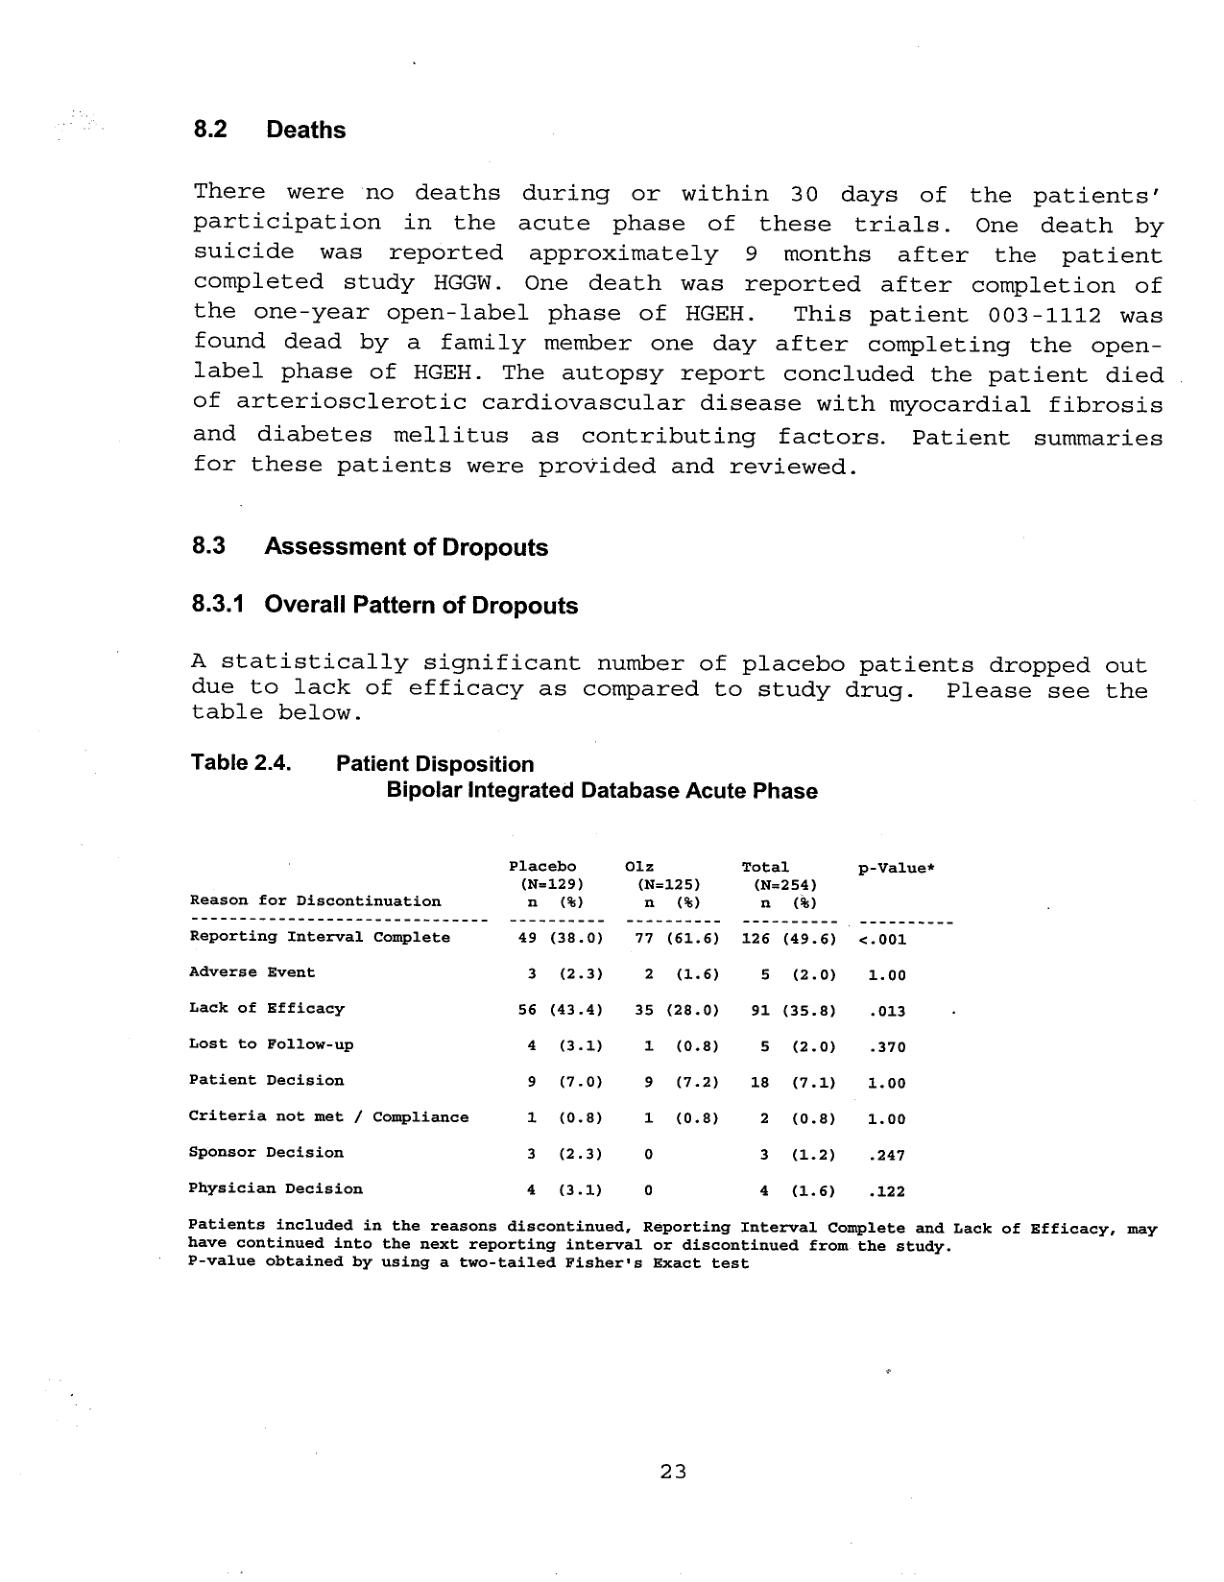nolines: (188, 856, 956, 1202)
